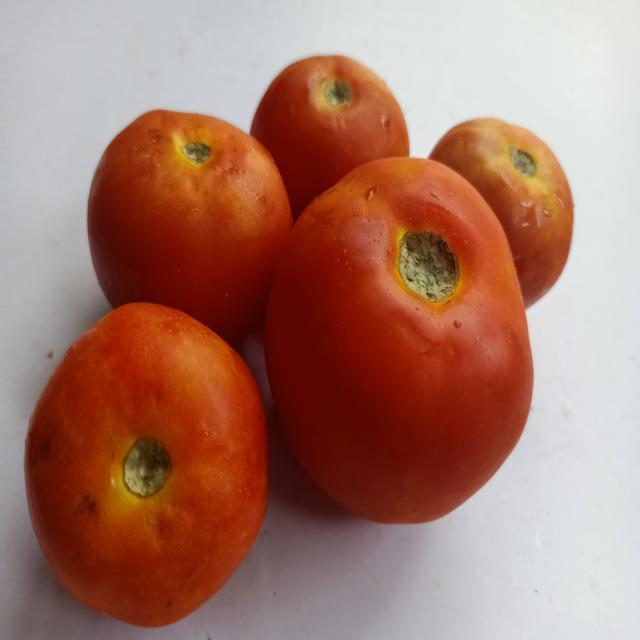Tomato: (260, 149, 543, 533), (19, 293, 276, 635), (84, 92, 300, 341), (426, 113, 586, 313), (249, 50, 411, 223)
